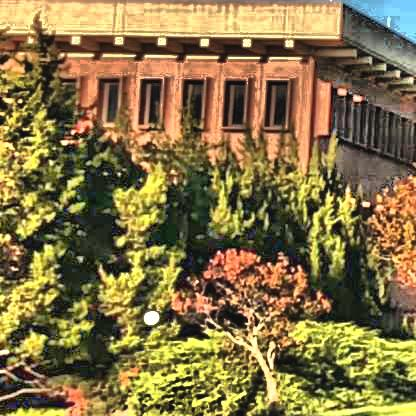golfball: (139, 305, 158, 322)
